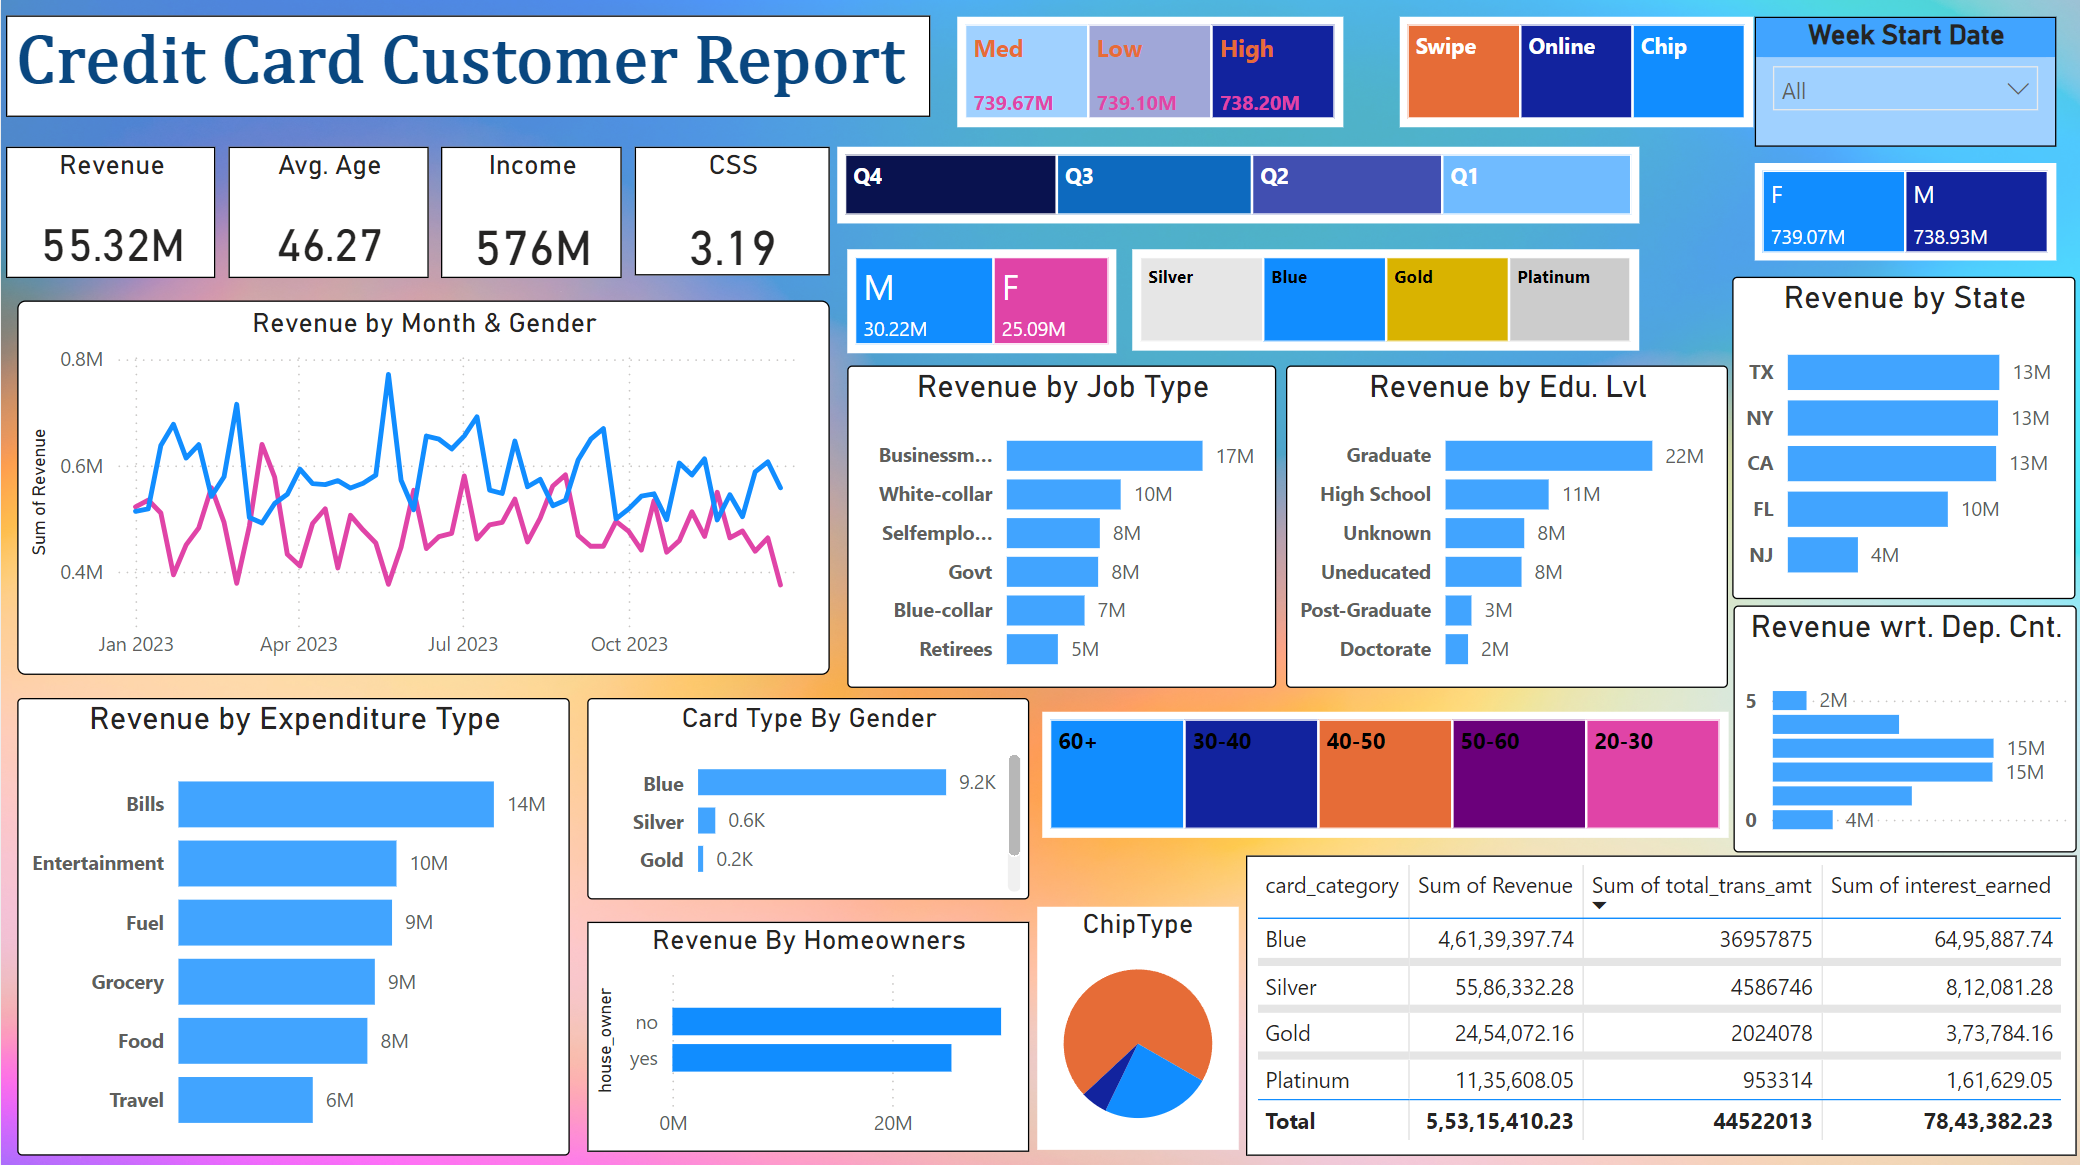

This screenshot's page, from the dashboard's own definition file:
{"tool":"powerbi","page":{"name":"CC Cust. ","canvas":[1280,720],"ordinal":1},"visuals":[{"type":"barChart","title":"Revenue by Edu. Lvl","fields":{"Y":["Sum(public cc_detail.Revenue)"],"Category":["public cust_detail.education_level"]},"box":[790.6,226.4,271.6,198.7],"z":0},{"type":"tableEx","fields":{"Values":["public cc_detail.card_category","Sum(public cc_detail.Revenue)","Sum(public cc_detail.total_trans_amt)","Sum(public cc_detail.interest_earned)"]},"box":[765.9,527.5,511.5,184.6],"z":1000},{"type":"cardVisual","title":"Revenue","fields":{"Data":["Sum(public cc_detail.Revenue)"]},"box":[3.4,91.4,129.1,80.5],"z":2000},{"type":"cardVisual","title":"Avg. Age","fields":{"Data":["Avg(public cust_detail.customer_age)"]},"box":[140,91.4,123.2,80.5],"z":3000},{"type":"cardVisual","title":"CSS","fields":{"Data":["Avg(public cust_detail.cust_satisfaction_score)"]},"box":[389.8,91.4,119.9,79],"z":4000},{"type":"cardVisual","title":"Income","fields":{"Data":["Sum(public cust_detail.income)"]},"box":[270.8,91.4,111.5,80.5],"z":5000},{"type":"slicer","title":"Week Start Date","fields":{"Values":["public cc_detail.week_start_date"]},"box":[1079,11.7,185.3,79.6],"z":6000},{"type":"treemap","fields":{"Values":["Avg(public cc_detail.client_num)"],"Group":["public cc_detail.qtr"]},"box":[514.8,91.4,493.8,46.9],"z":7000},{"type":"treemap","fields":{"Values":["Avg(public cc_detail.client_num)"],"Group":["public cust_detail.gender"]},"box":[1079.5,101.7,185.6,60.3],"z":8000},{"type":"treemap","fields":{"Values":["Avg(public cc_detail.client_num)"],"Group":["public cc_detail.card_category"]},"box":[696.1,154.5,311.8,62.2],"z":9000},{"type":"treemap","fields":{"Values":["Avg(public cc_detail.client_num)"],"Group":["public cust_detail.IncomeGroup"]},"box":[588.8,11.3,237.4,67.8],"z":10000},{"type":"textbox","box":[3.4,10.9,568.4,62],"z":11000},{"type":"lineChart","title":"Revenue by Month & Gender","fields":{"Series":["public cust_detail.gender"],"Y":["Sum(public cc_detail.Revenue)"],"Category":["public cc_detail.week_start_date.Variation.Date Hierarchy.Year","public cc_detail.week_start_date.Variation.Date Hierarchy.Quarter","public cc_detail.week_start_date.Variation.Date Hierarchy.Month","public cc_detail.week_start_date.Variation.Date Hierarchy.Day"]},"box":[10.1,186.1,499.7,230.5],"z":12000},{"type":"treemap","fields":{"Group":["public cust_detail.gender"],"Values":["Sum(public cc_detail.Revenue)"]},"box":[520.6,154.3,166,63.7],"z":13000},{"type":"barChart","title":"Revenue By Homeowners","fields":{"Category":["public cust_detail.house_owner"],"Y":["Sum(public cc_detail.Revenue)"]},"box":[360.5,568.4,271.6,141.7],"z":14000},{"type":"barChart","title":"Card Type By Gender","fields":{"Y":["CountNonNull(public cust_detail.gender)"],"Category":["public cc_detail.card_category"]},"box":[360.5,430.9,271.6,124.1],"z":15000},{"type":"barChart","title":"Revenue by Job Type","fields":{"Y":["Sum(public cc_detail.Revenue)"],"Category":["public cust_detail.customer_job"]},"box":[520.6,226.4,264.1,198.7],"z":16000},{"type":"barChart","title":"Revenue by Expenditure Type","fields":{"Y":["Sum(public cc_detail.Revenue)"],"Category":["public cc_detail.exp_type"]},"box":[10.1,430.9,340.4,281.7],"z":17000},{"type":"barChart","title":"Revenue by State","fields":{"Y":["Sum(public cc_detail.Revenue)"],"Category":["public cust_detail.state_cd"]},"box":[1065.4,171.4,211,198.8],"z":18000},{"type":"barChart","title":"Revenue wrt. Dep. Cnt.","fields":{"Y":["Sum(public cc_detail.Revenue)"],"Category":["public cust_detail.dependent_count"]},"box":[1066.4,374,211,151.7],"z":19000},{"type":"treemap","fields":{"Values":["Avg(public cc_detail.client_num)"],"Group":["public cust_detail.AgeGroup"]},"box":[640.6,439,422,77.2],"z":20000},{"type":"pieChart","title":"ChipType","fields":{"Category":["public cc_detail.use_chip"],"Y":["CountNonNull(public cc_detail.use_chip)"]},"box":[637.7,559.6,124.3,149.8],"z":21000},{"type":"treemap","fields":{"Values":["Avg(public cc_detail.client_num)"],"Group":["public cc_detail.use_chip"]},"box":[861,11.3,217.6,67.8],"z":21001}]}

Visuals, with their boxes in screenshot pixels (x1, y1, x2, y2), scaled from the page's 1280x720 canvas onto the 2080x1165 screenshot:
"Revenue by Edu. Lvl" barChart: [x1=1285, y1=366, x2=1726, y2=688]
tableEx - public cc_detail.card_category x Sum(public cc_detail.Revenue): [x1=1245, y1=854, x2=2076, y2=1152]
"Revenue" cardVisual: [x1=6, y1=148, x2=215, y2=278]
"Avg. Age" cardVisual: [x1=228, y1=148, x2=428, y2=278]
"CSS" cardVisual: [x1=633, y1=148, x2=828, y2=276]
"Income" cardVisual: [x1=440, y1=148, x2=621, y2=278]
"Week Start Date" slicer: [x1=1753, y1=19, x2=2054, y2=148]
treemap - Avg(public cc_detail.client_num) x public cc_detail.qtr: [x1=837, y1=148, x2=1639, y2=224]
treemap - Avg(public cc_detail.client_num) x public cust_detail.gender: [x1=1754, y1=165, x2=2056, y2=262]
treemap - Avg(public cc_detail.client_num) x public cc_detail.card_category: [x1=1131, y1=250, x2=1638, y2=351]
treemap - Avg(public cc_detail.client_num) x public cust_detail.IncomeGroup: [x1=957, y1=18, x2=1343, y2=128]
textbox: [x1=6, y1=18, x2=929, y2=118]
"Revenue by Month & Gender" lineChart: [x1=16, y1=301, x2=828, y2=674]
treemap - public cust_detail.gender x Sum(public cc_detail.Revenue): [x1=846, y1=250, x2=1116, y2=353]
"Revenue By Homeowners" barChart: [x1=586, y1=920, x2=1027, y2=1149]
"Card Type By Gender" barChart: [x1=586, y1=697, x2=1027, y2=898]
"Revenue by Job Type" barChart: [x1=846, y1=366, x2=1275, y2=688]
"Revenue by Expenditure Type" barChart: [x1=16, y1=697, x2=570, y2=1153]
"Revenue by State" barChart: [x1=1731, y1=277, x2=2074, y2=599]
"Revenue wrt. Dep. Cnt." barChart: [x1=1733, y1=605, x2=2076, y2=851]
treemap - Avg(public cc_detail.client_num) x public cust_detail.AgeGroup: [x1=1041, y1=710, x2=1727, y2=835]
"ChipType" pieChart: [x1=1036, y1=905, x2=1238, y2=1148]
treemap - Avg(public cc_detail.client_num) x public cc_detail.use_chip: [x1=1399, y1=18, x2=1753, y2=128]
